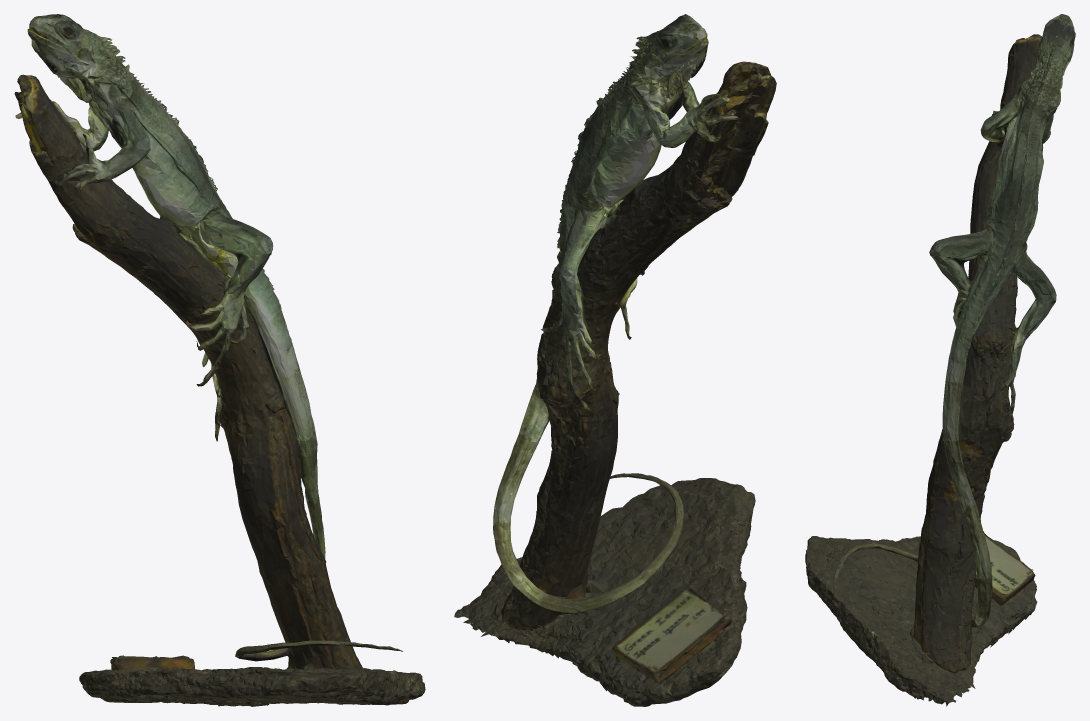
The model's file is green-iguana.glb.
The picture shows the model from 3 angles, left to right: view 1: azimuth 30°, elevation 25°; view 2: azimuth 150°, elevation 25°; view 3: azimuth 270°, elevation 25°; orthographic projection. The views are drawn at different scales.
Visible parts, largest first — view 1: animal; view 2: animal; view 3: animal.
Part boxes in pixels (box(x1,y1,x2,y2)): animal: box(14, 14, 425, 706); animal: box(454, 14, 776, 706); animal: box(805, 14, 1075, 706).
Size of the model in its own units: 0.6207 by 1.18 by 0.5065.
1 material, 1 textured.
